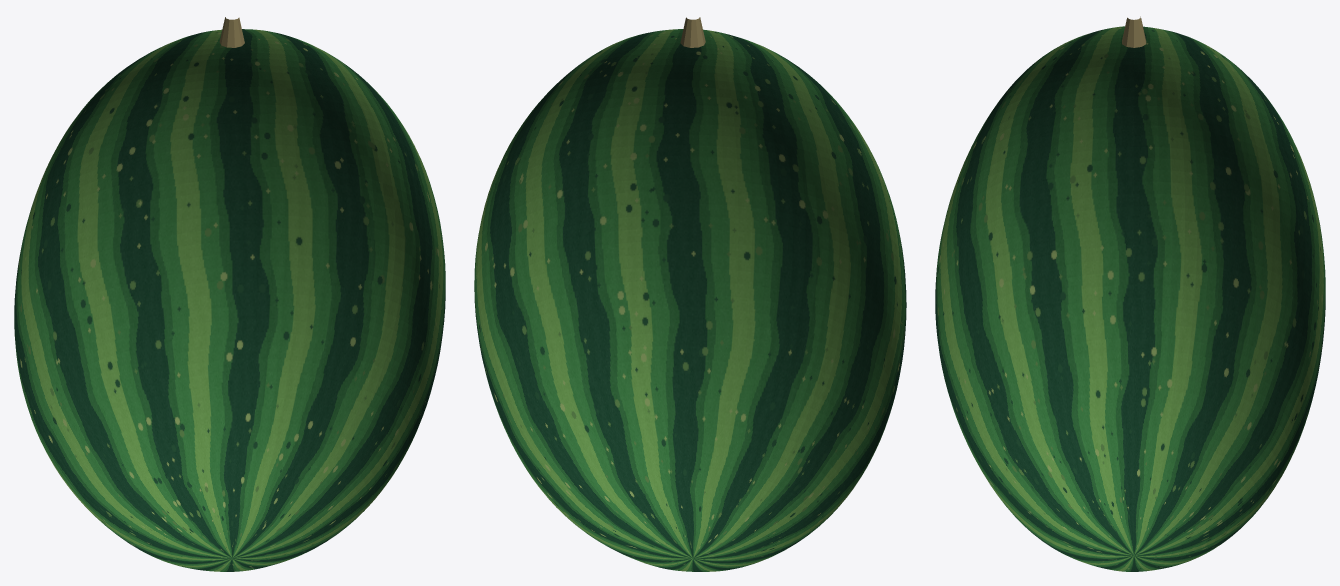
Rendered from watermelon.glb.
The picture shows the model from 3 angles, left to right: view 1: azimuth 30°, elevation 25°; view 2: azimuth 150°, elevation 25°; view 3: azimuth 270°, elevation 25°; orthographic projection.
Visible parts, largest first — view 1: Whole_Watermelon, Stem; view 2: Whole_Watermelon, Stem; view 3: Whole_Watermelon, Stem.
Part boxes in pixels (<box>): Whole_Watermelon: <box>14,29,445,571</box>; Stem: <box>219,17,244,47</box>; Whole_Watermelon: <box>474,29,906,571</box>; Stem: <box>680,17,705,47</box>; Whole_Watermelon: <box>935,26,1325,571</box>; Stem: <box>1122,16,1146,47</box>.
Size of the model in its own units: 1.56 by 2.1 by 1.38.
2 materials, 1 textured.
